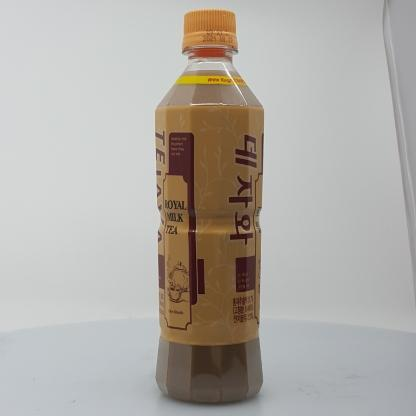-------------500ML: (155, 9, 264, 403)
